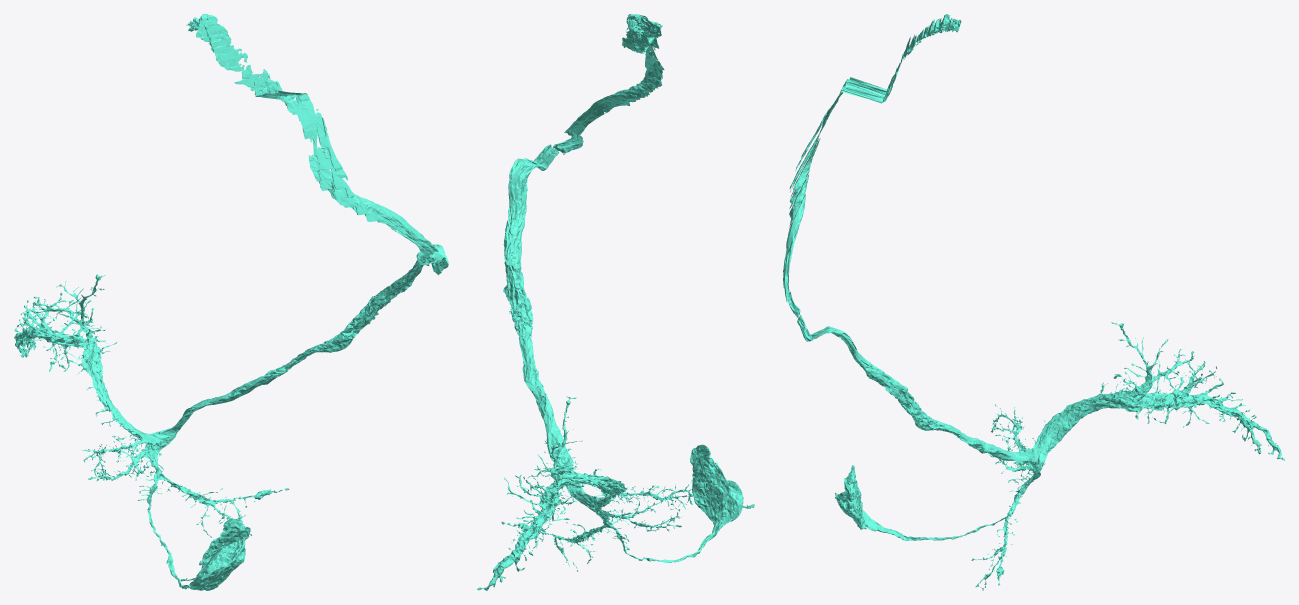
The model's file is VFB_fw036981.glb.
The picture shows the model from 3 angles, left to right: view 1: azimuth 30°, elevation 25°; view 2: azimuth 150°, elevation 25°; view 3: azimuth 270°, elevation 25°; orthographic projection.
Parts seen in each view (by area): view 1: VFB_fw036981; view 2: VFB_fw036981; view 3: VFB_fw036981.
Boxes of the visible parts, x1,y1,x2,y2 form: VFB_fw036981: (14,14,448,590); VFB_fw036981: (477,14,754,590); VFB_fw036981: (783,14,1284,590).
Bounding box in the file's own units: 0.098 × 0.1935 × 0.1588.
